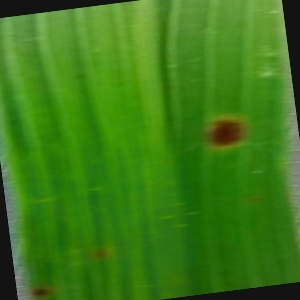Bacterial_Leaf_Blight: (194, 105, 258, 158), (27, 279, 52, 300), (88, 245, 113, 264)
